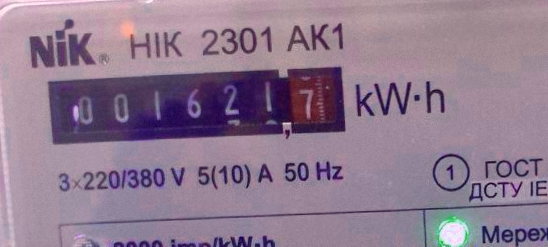0: (109, 88, 132, 126), (74, 91, 95, 125)
1: (260, 76, 275, 113), (149, 86, 164, 122)
2: (220, 81, 242, 117)
6: (183, 85, 203, 119)
7: (295, 84, 316, 121)
screen: (42, 63, 351, 149)
